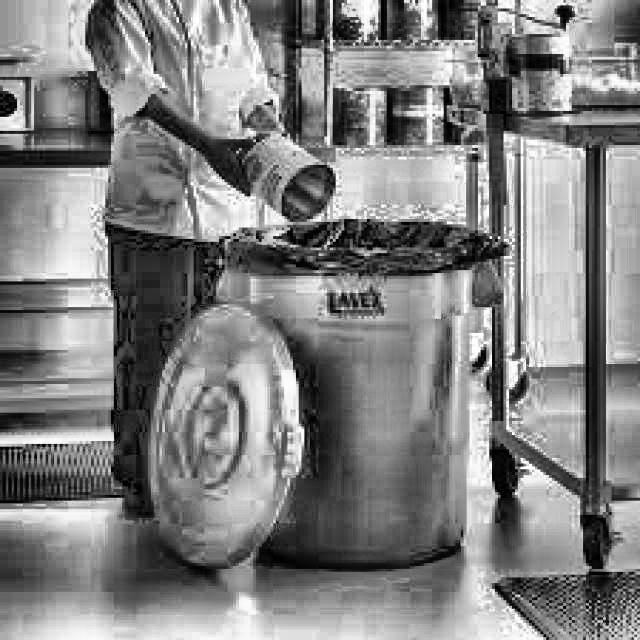Dustbin: (213, 219, 514, 576)
